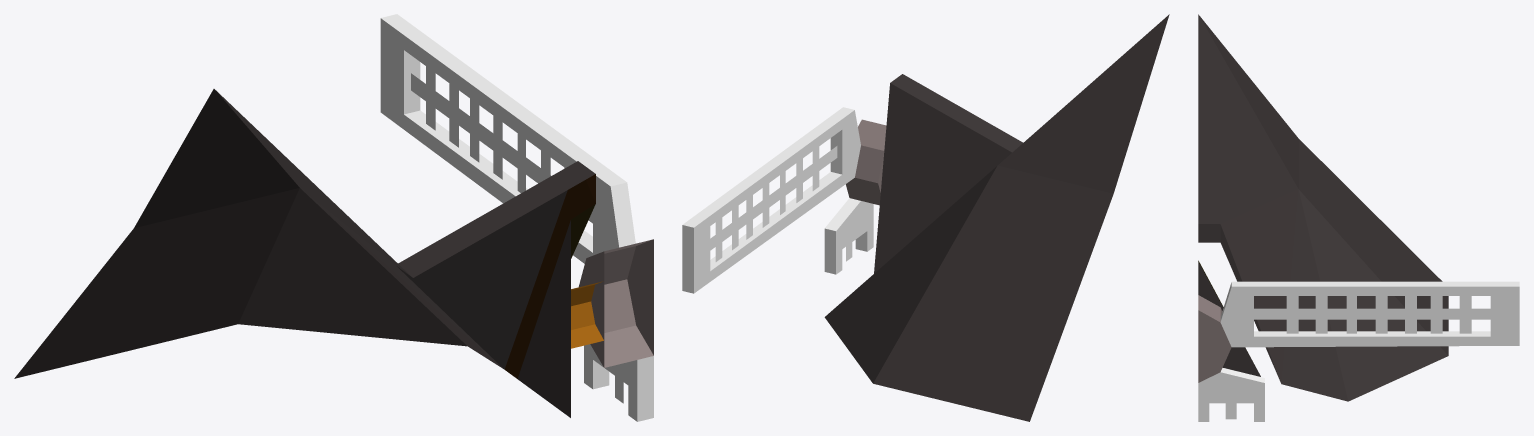
The model's file is obj_mroof4_0.obj.
The picture shows the model from 3 angles, left to right: view 1: azimuth 30°, elevation 25°; view 2: azimuth 150°, elevation 25°; view 3: azimuth 270°, elevation 25°; orthographic projection. The views are drawn at different scales.
Bounding box in the file's own units: 2.9 × 2.75 × 2.93.
